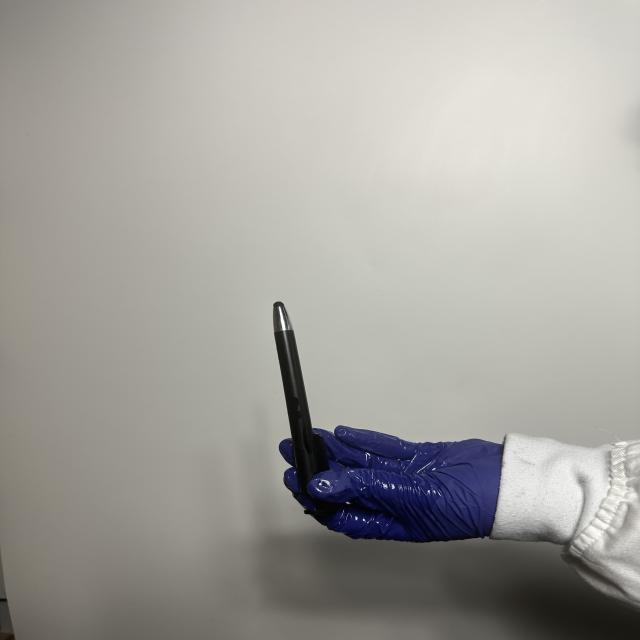gloves_contaminated: (279, 426, 503, 542)
